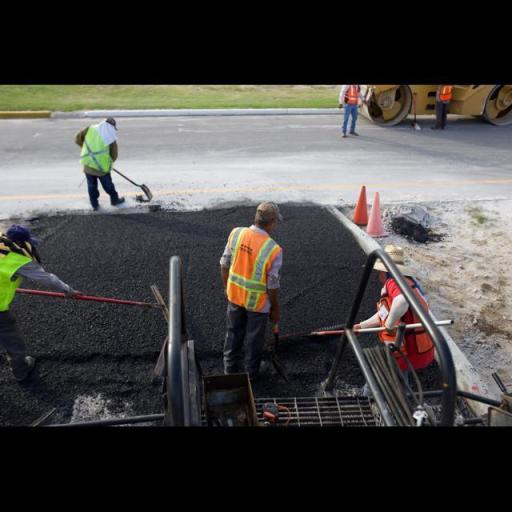Person: (200, 168, 320, 392), (359, 228, 464, 404), (0, 206, 80, 370), (60, 104, 144, 225), (414, 82, 477, 135), (326, 84, 372, 141)
vest: (366, 277, 462, 373), (220, 214, 286, 319), (0, 235, 37, 320), (78, 114, 123, 182), (336, 83, 366, 110), (430, 84, 459, 106)
